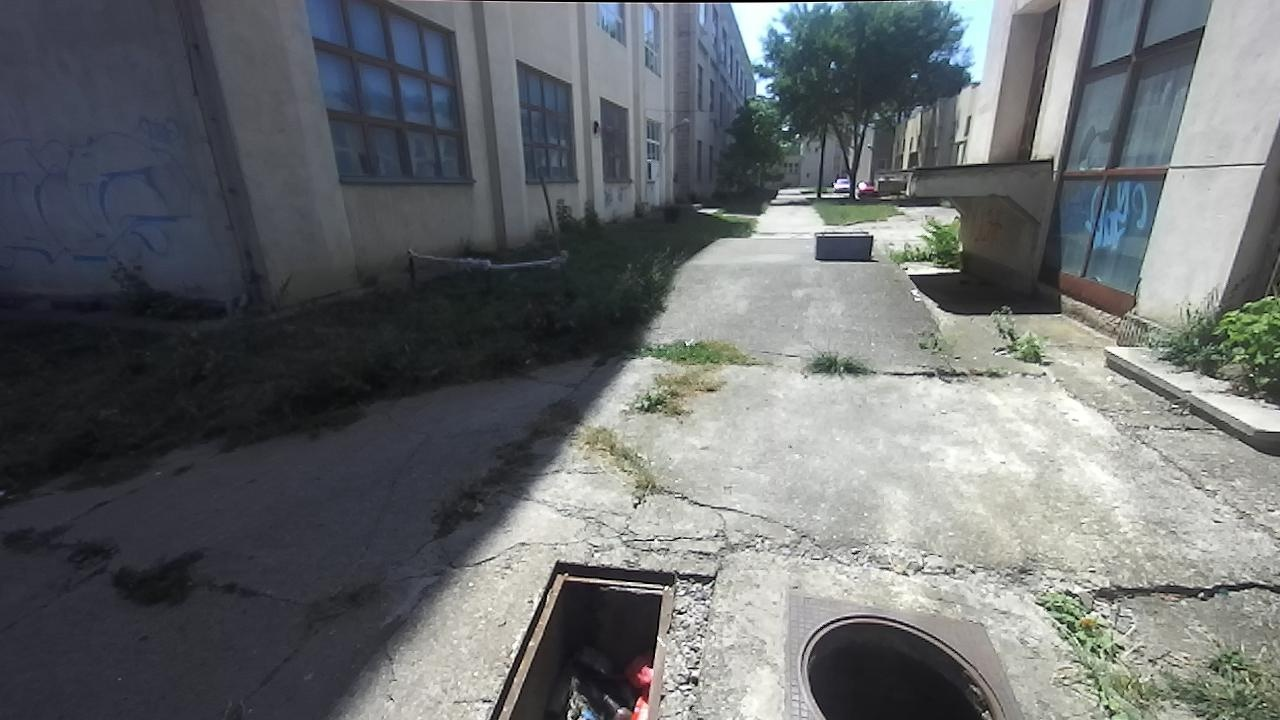drain: (499, 558, 713, 720), (800, 614, 1005, 720)
